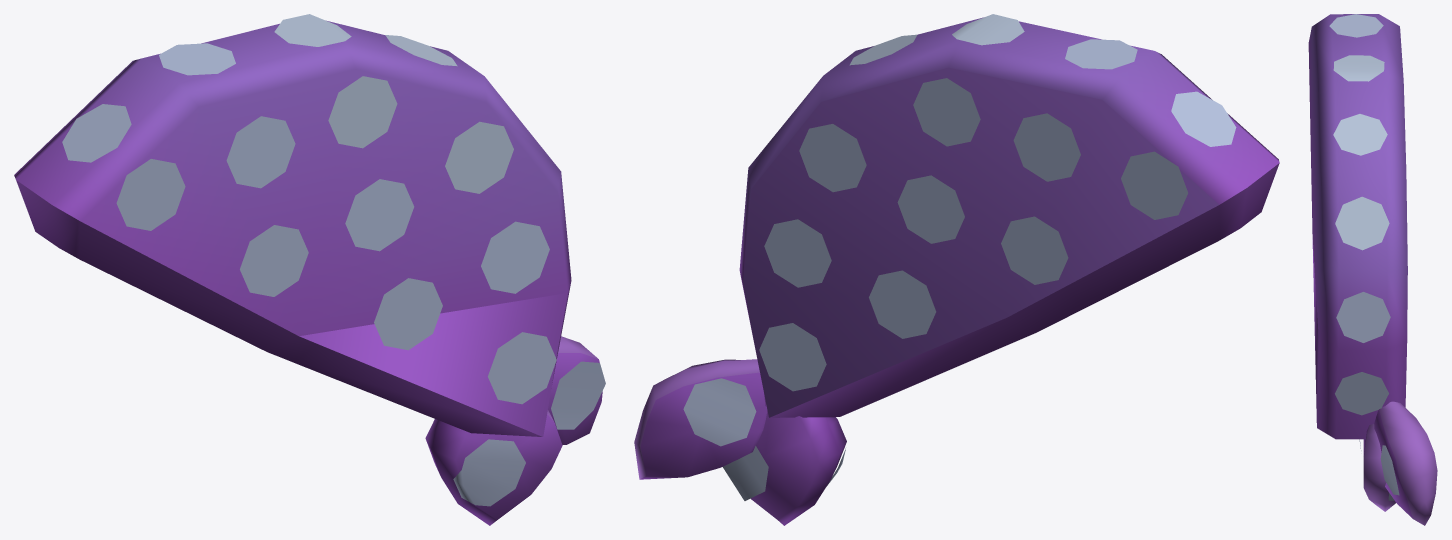
Rendered from Bandana.glb.
3 views of the same model, side by side, from view 1: azimuth 30°, elevation 25°; view 2: azimuth 150°, elevation 25°; view 3: azimuth 270°, elevation 25° (orthographic). The views are drawn at different scales.
Parts seen in each view (by area): view 1: Bandana; view 2: Bandana; view 3: Bandana.
Boxes of the visible parts, <box> form: Bandana: <box>14,14,605,525</box>; Bandana: <box>634,14,1279,525</box>; Bandana: <box>1308,14,1437,525</box>.
Bounding box in the file's own units: 0.6512 × 0.5699 × 0.1746.
